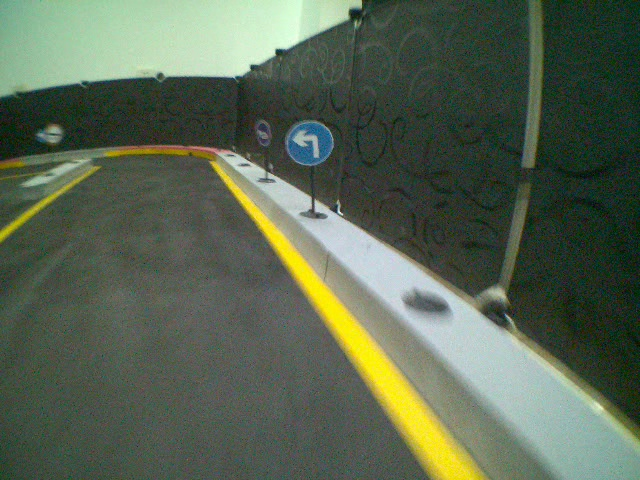Check: (43, 123, 64, 145)
horn: (253, 117, 272, 148)
turn: (285, 117, 336, 168)
